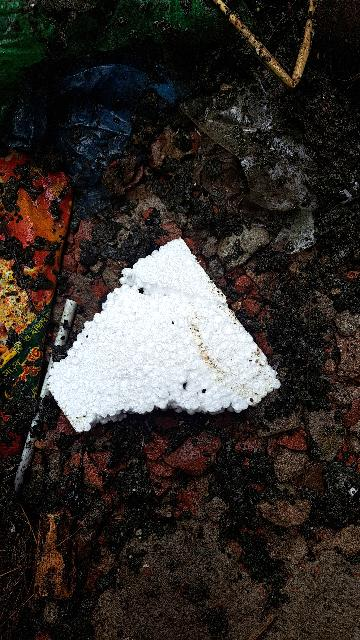cocksheet: (31, 221, 297, 446)
